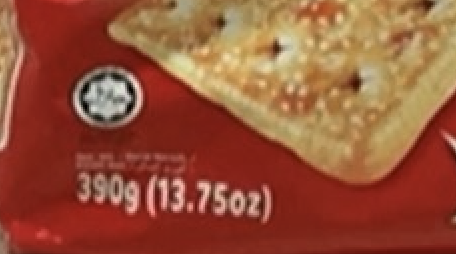halal: (86, 80, 130, 114)
